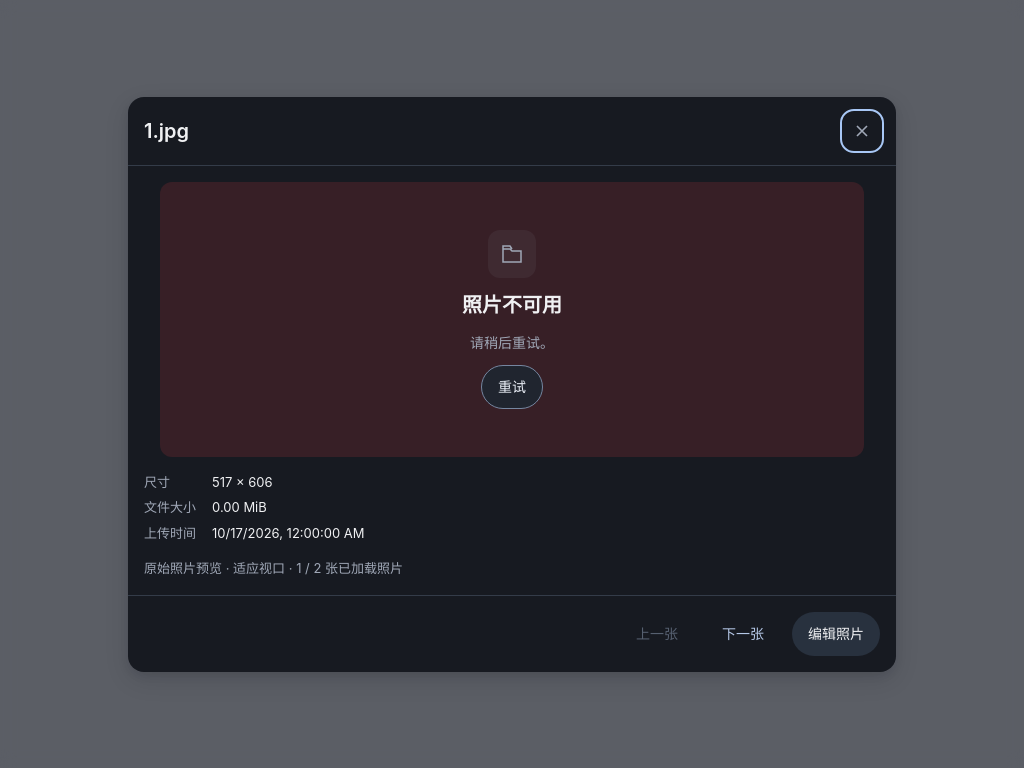
keeps navigation available when a preview is unavailable and supports retry
The image size is (1024, 768).
expect the message shows "照片不可用": met, box [462, 292, 562, 316]
expect the button "下一张" is enabled: met, box [706, 612, 780, 656]
Click the button "重试" at point(512, 386), box [481, 364, 543, 408]
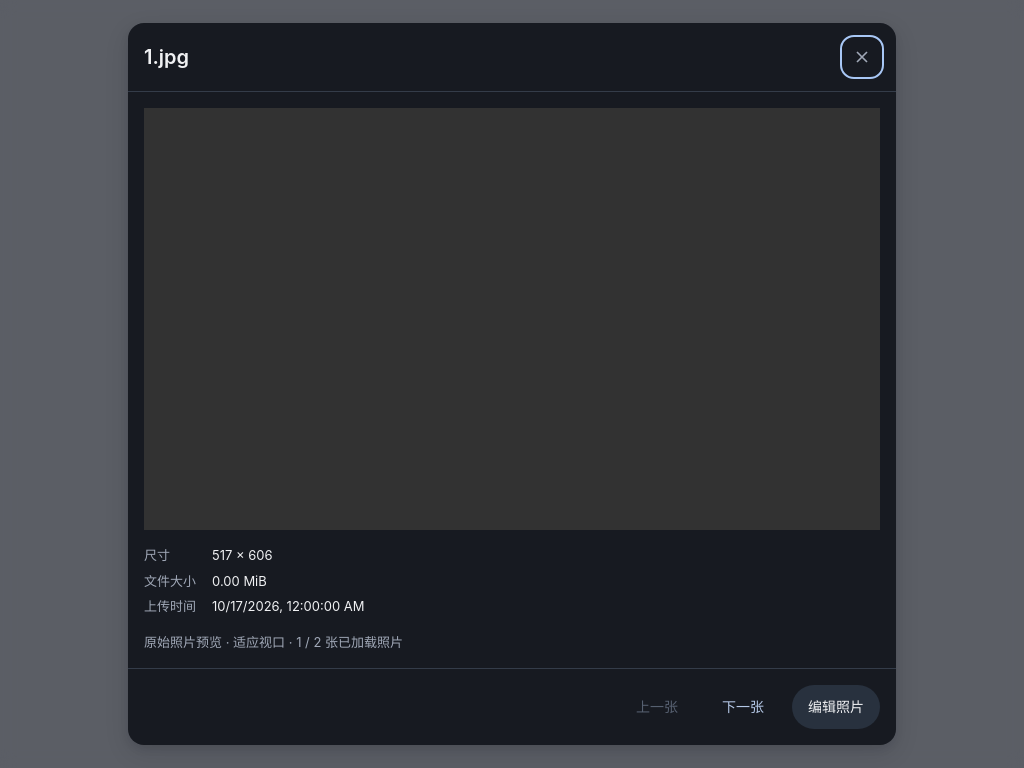
expect the picture named "当前照片预览" is shown: met, box [332, 108, 692, 530]
